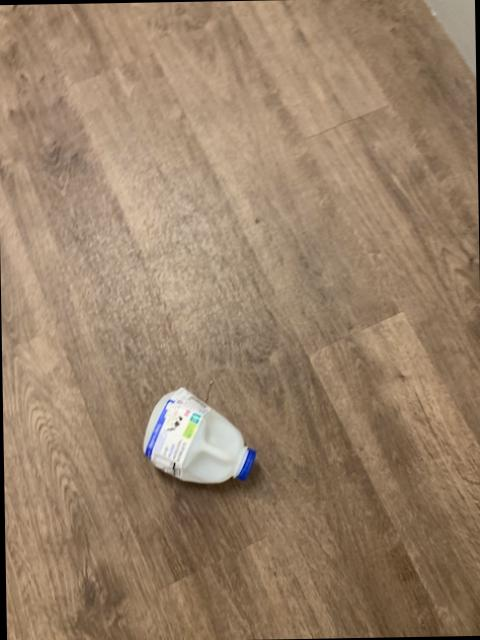plastic: (144, 386, 255, 481)
